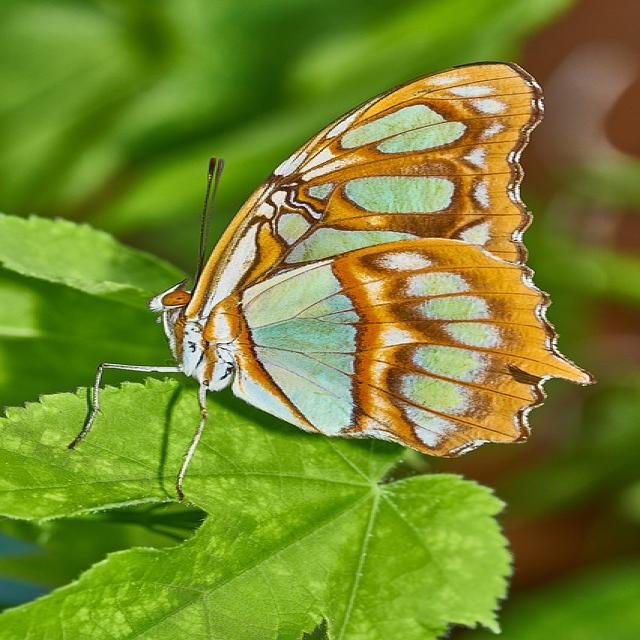butterfly: (149, 61, 593, 460)
